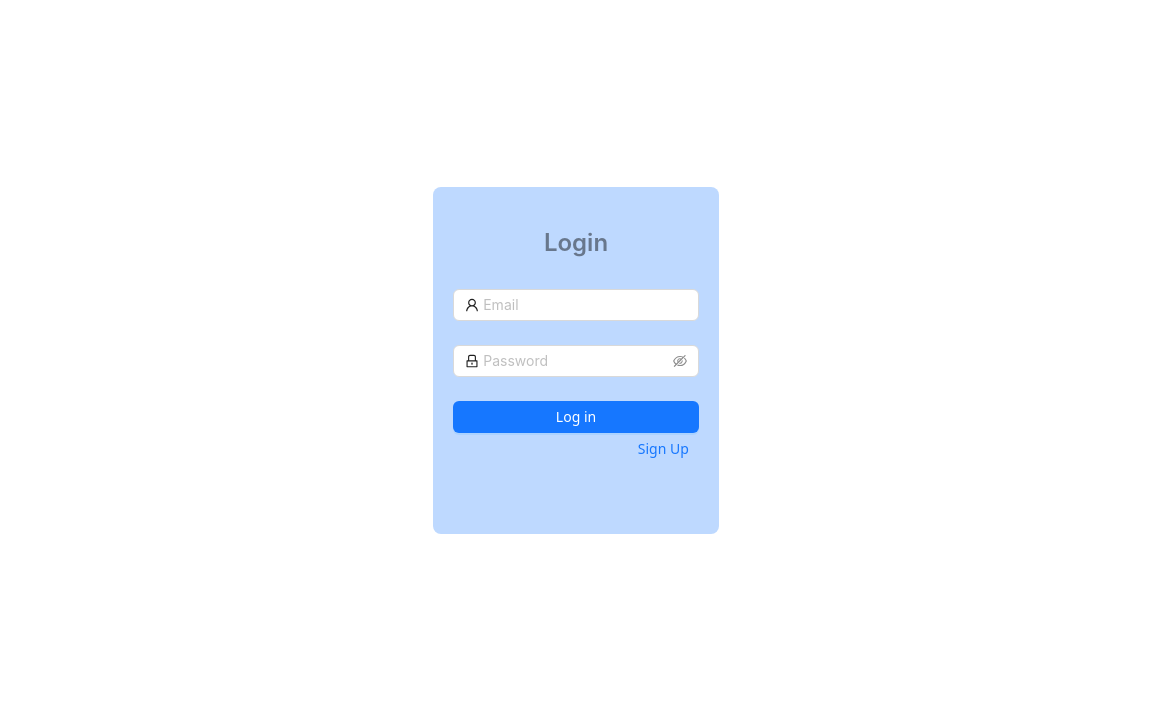
Like page › renders Like page
Type "issac@gmail.com" into the field with placeholder "Email".
click(585, 305); type("issac@gmail.com")  # box [483,294,687,316]
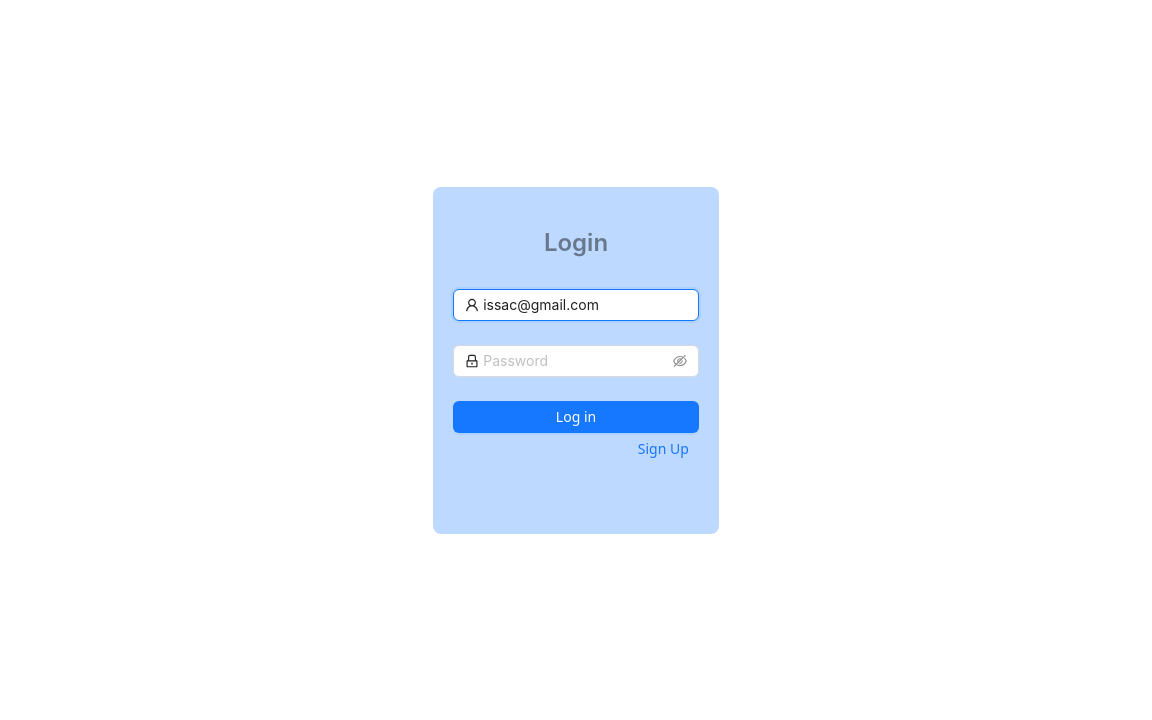
Type "omkar123" into the password field with placeholder "Password".
click(576, 361); type("omkar123")  # box [483,350,669,372]
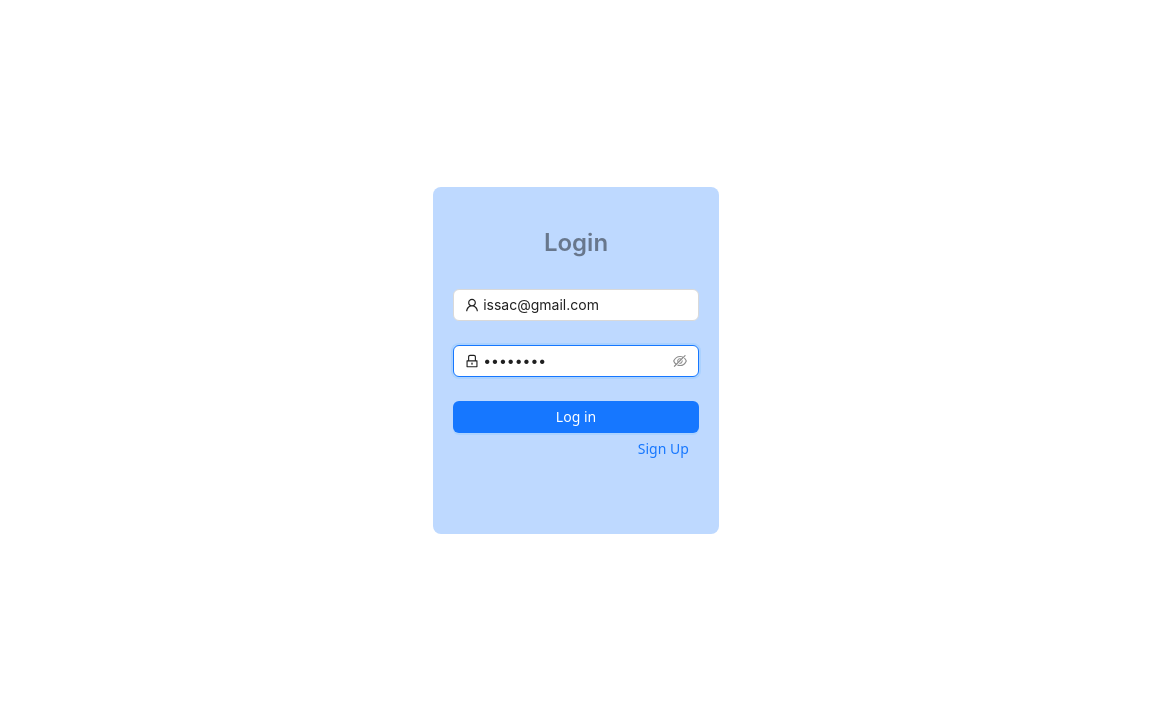
Click the button with class "login-form-button".
click(576, 417)  # box [453,401,699,433]
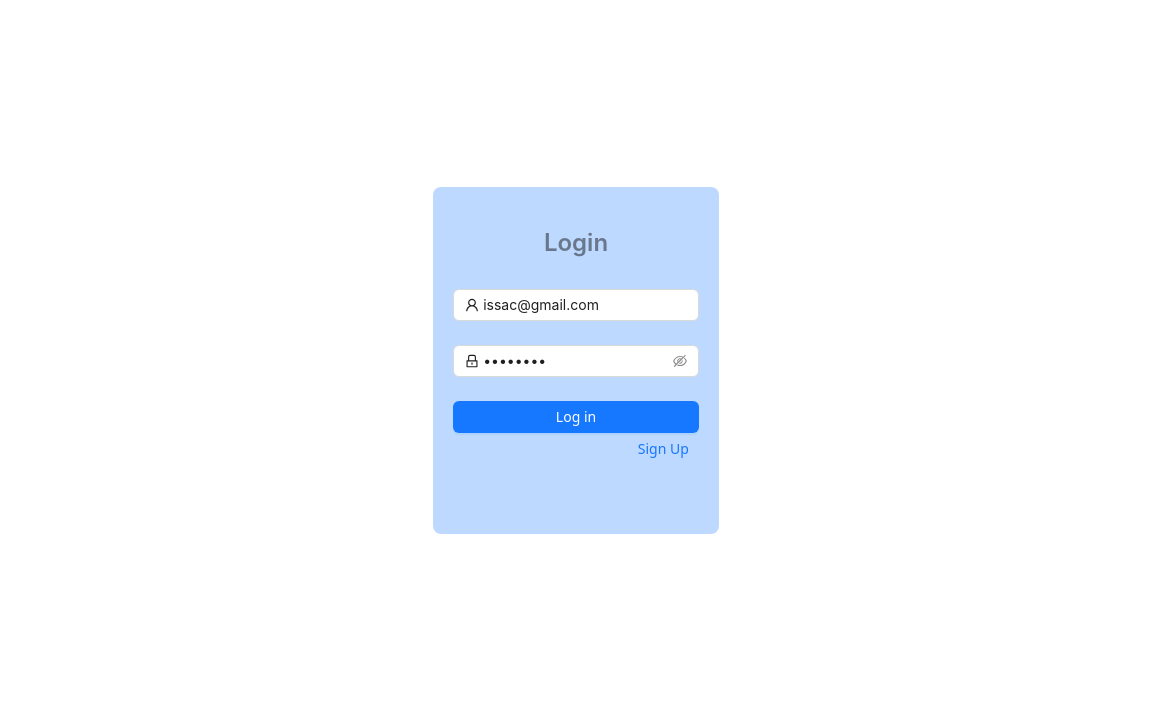
Open "/like"
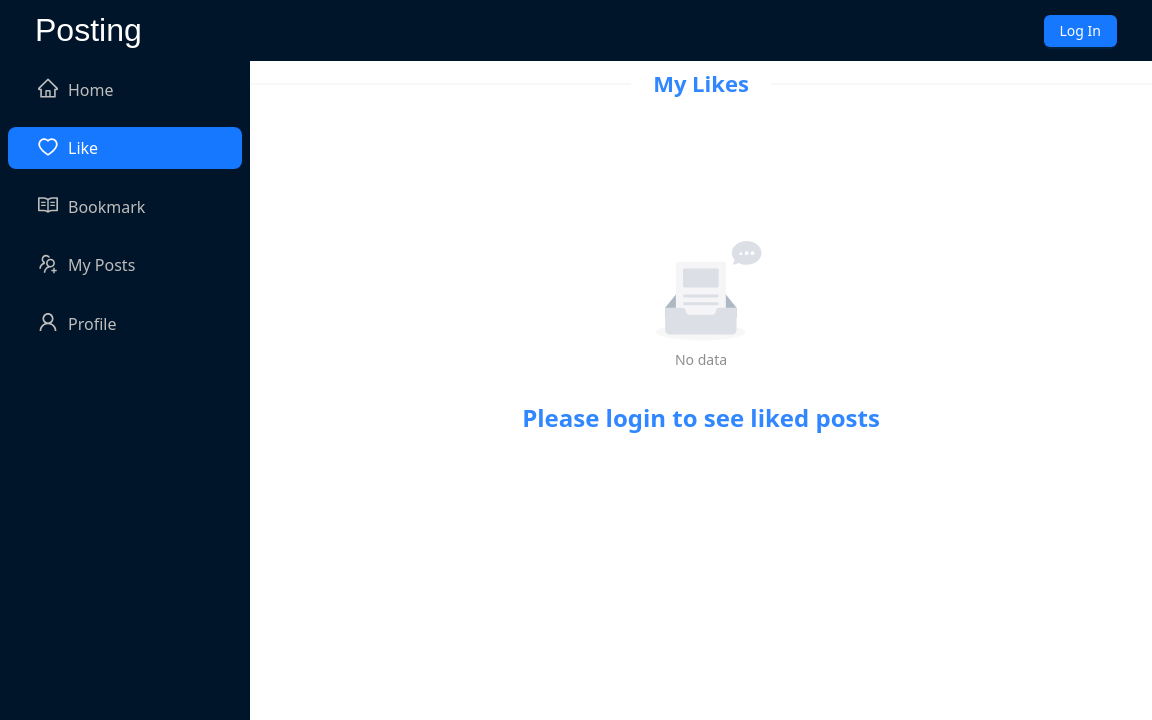
Expected: the element with test id "liked-posts-title" reads "My Likes", [653,68,749,98]
